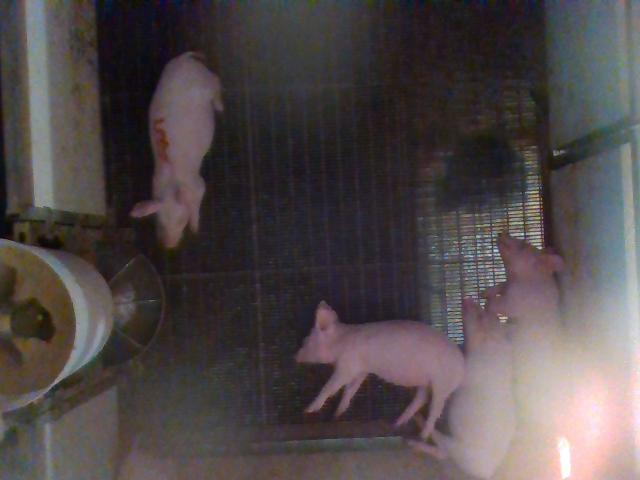pig-3: (130, 52, 222, 248)
